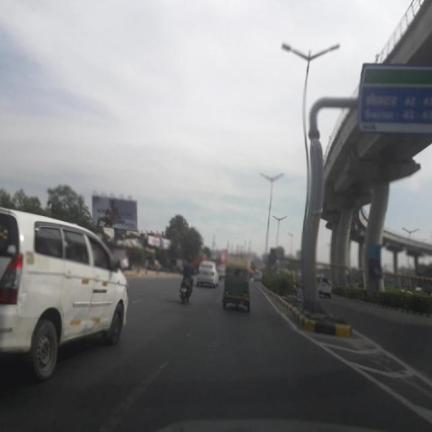Road: (0, 279, 430, 431)
